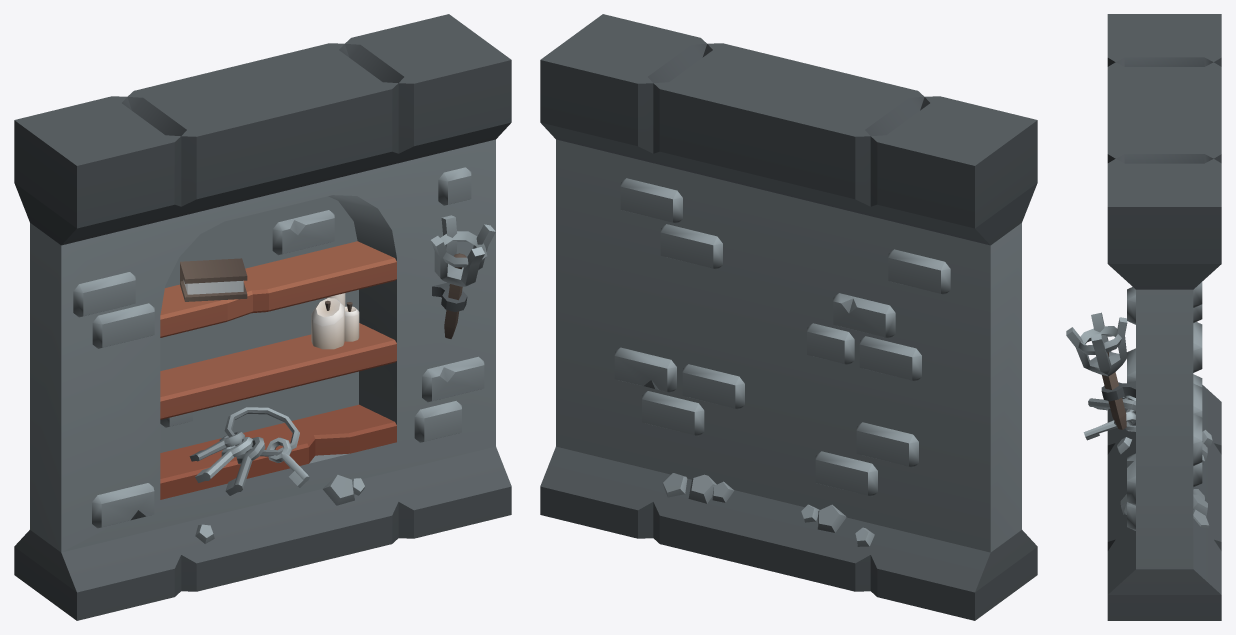
The model's file is wall_inset_shelves_decoratedB.glb.
3 views of the same model, side by side, from view 1: azimuth 30°, elevation 25°; view 2: azimuth 150°, elevation 25°; view 3: azimuth 270°, elevation 25° (orthographic). The views are drawn at different scales.
Parts seen in each view (by area): view 1: wall_inset_shelves_decoratedB; view 2: wall_inset_shelves_decoratedB; view 3: wall_inset_shelves_decoratedB.
Part boxes in pixels (x1,y1,x2,y2): wall_inset_shelves_decoratedB: [14, 14, 511, 620]; wall_inset_shelves_decoratedB: [540, 14, 1037, 620]; wall_inset_shelves_decoratedB: [1066, 14, 1221, 620].
Size of the model in its own units: 4 by 4 by 1.36.
1 material, 1 textured.
